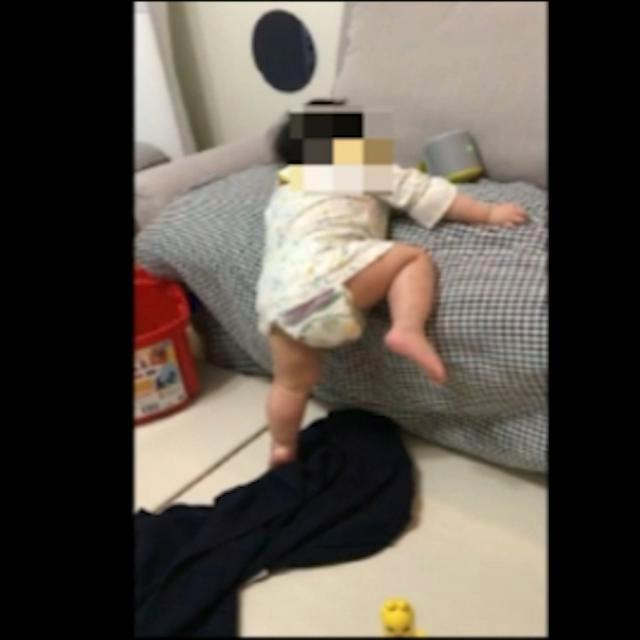child: (255, 99, 526, 474)
